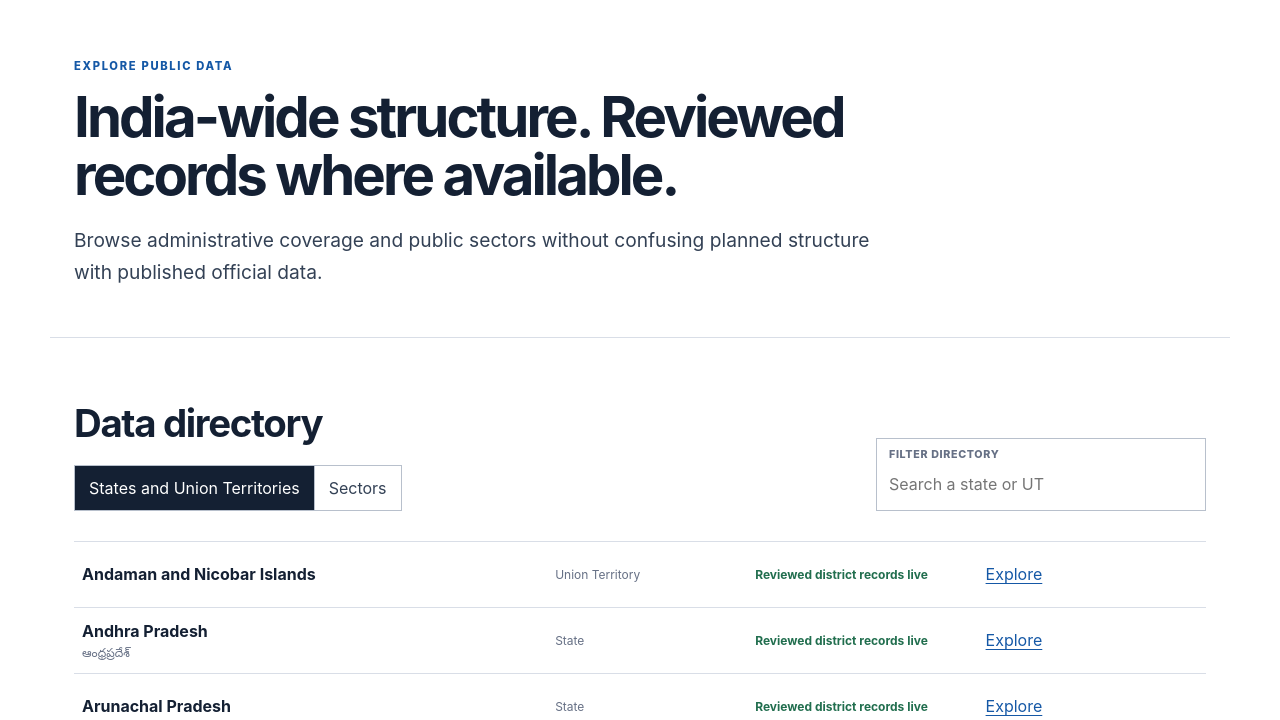
ExploreData › shows India-wide coverage with all 36 jurisdictions live
Expected: the heading "India-wide structure. Reviewed records where available." is shown, [74, 88, 974, 203]
Expected: the list with test id "state-directory" shows "Andhra Pradesh", [82, 621, 208, 641]
Click the tab "Sectors" at (358, 488), box [314, 465, 402, 511]
(page scrolled)
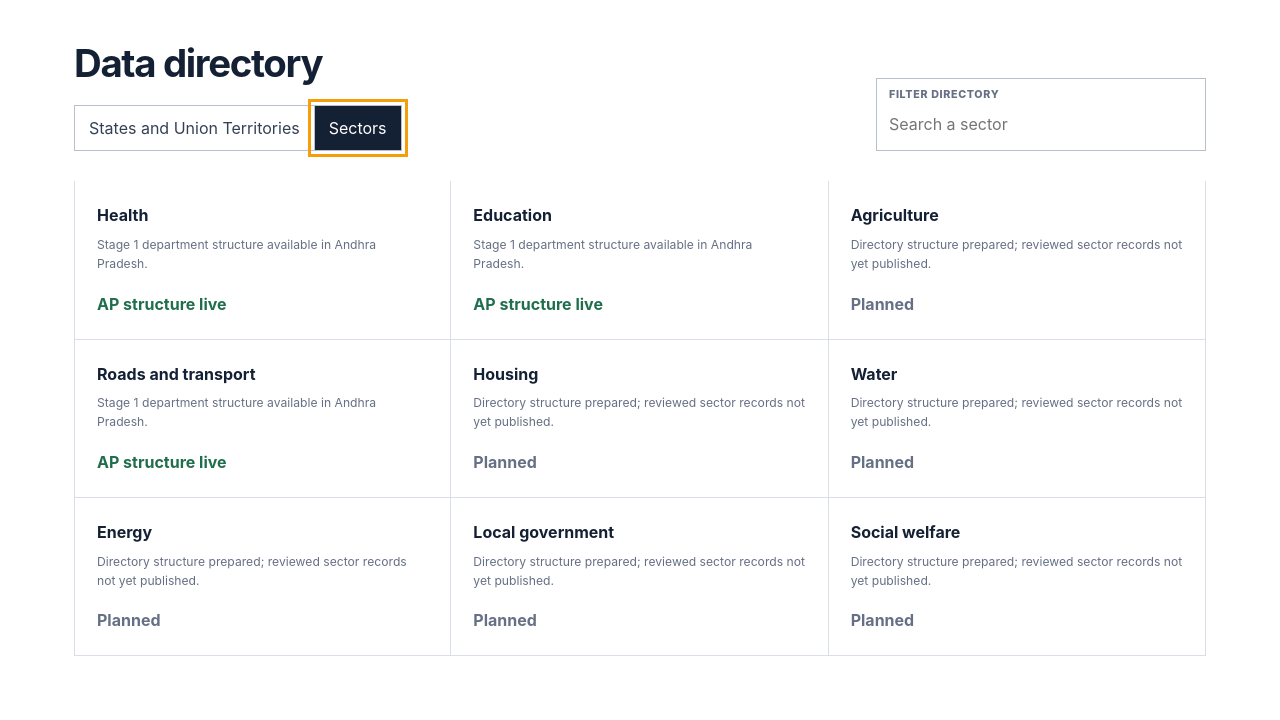
Expected: the list with test id "sector-directory" shows "Health", [97, 205, 148, 225]
Expected: the text "AP structure live" is shown 3 times, [97, 294, 227, 314]; [473, 294, 603, 314]; [97, 452, 227, 472]
